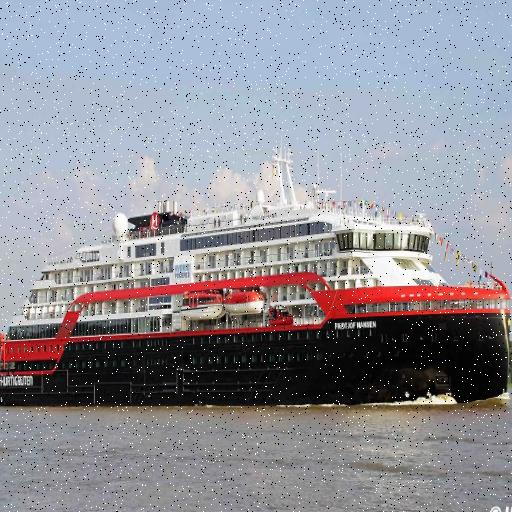cruises: (1, 144, 512, 416)
